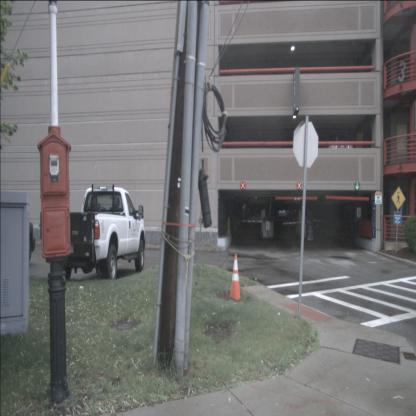movable_object-trafficcone: (229, 254, 241, 301)
vehicle-car: (324, 134, 354, 164)
vehicle-truck: (41, 186, 146, 282)
